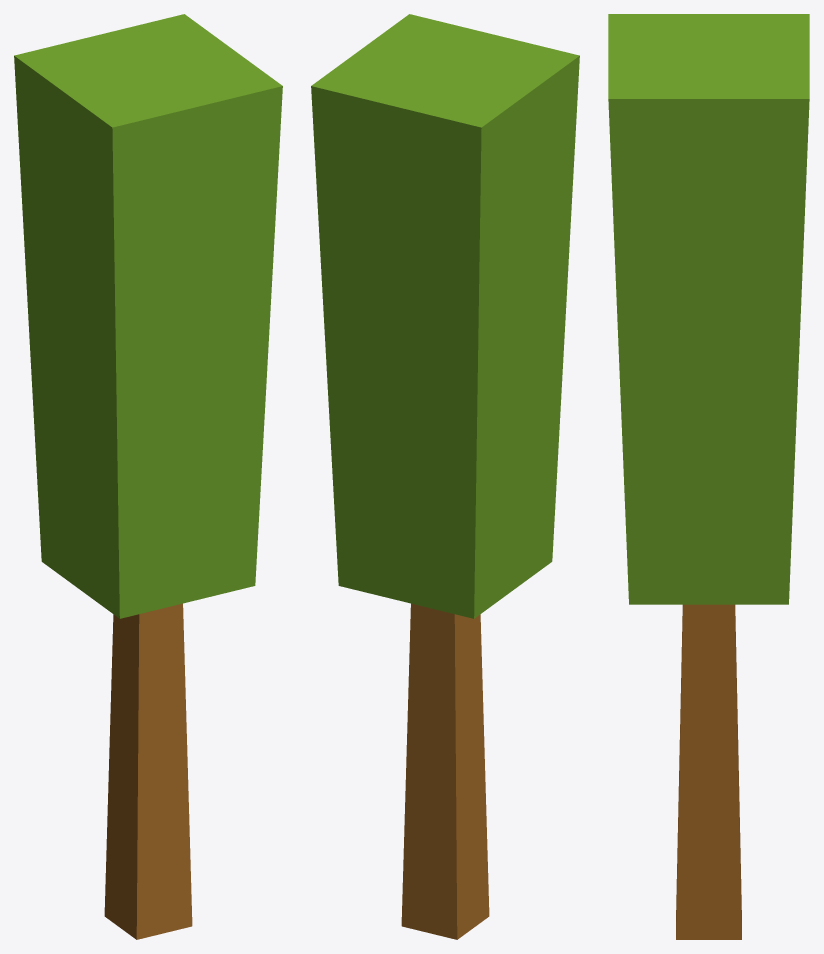
The model's file is tree_01.fbx.
The picture shows the model from 3 angles, left to right: view 1: azimuth 30°, elevation 25°; view 2: azimuth 150°, elevation 25°; view 3: azimuth 270°, elevation 25°; orthographic projection. The views are drawn at different scales.
Visible parts, largest first — view 1: tree_01; view 2: tree_01; view 3: tree_01.
Boxes of the visible parts, x1=… form: tree_01: x1=14, y1=14, x2=282, y2=939; tree_01: x1=311, y1=14, x2=579, y2=939; tree_01: x1=608, y1=14, x2=809, y2=939.
Size of the model in its own units: 1.03 by 4.89 by 1.03.
